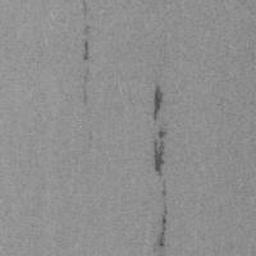Inclusion: (152, 129, 168, 198), (152, 83, 164, 119), (159, 204, 169, 247), (82, 74, 90, 105), (83, 40, 90, 60), (82, 0, 88, 18)
